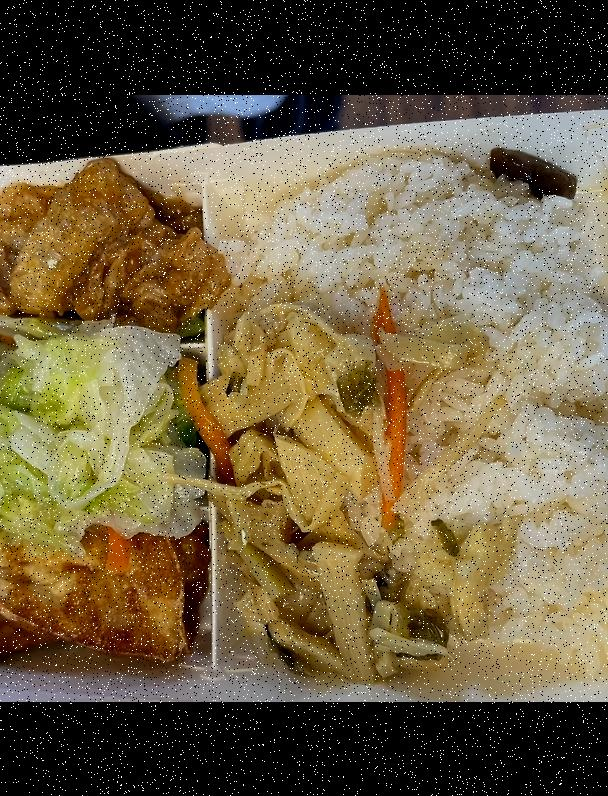big grilled chicken leg: (0, 94, 608, 700)
big herbal chicken leg: (223, 155, 608, 660)
braised fish fillet: (200, 292, 494, 692), (0, 320, 204, 545), (0, 170, 224, 330), (0, 520, 204, 668)
